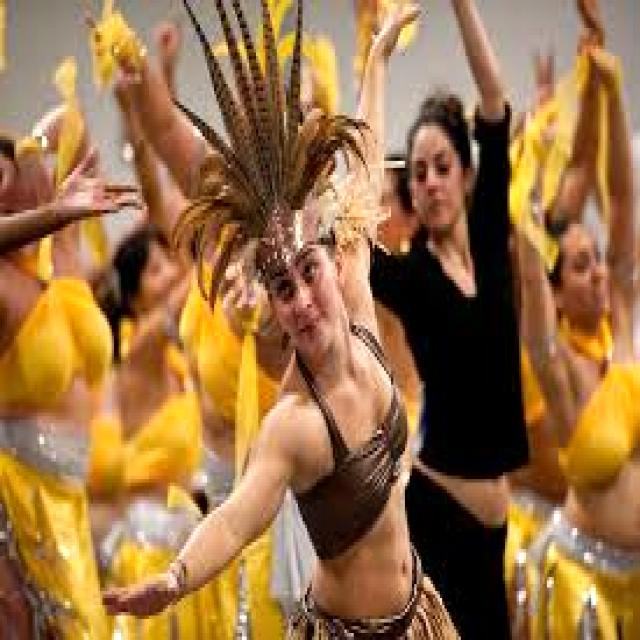Phasianus Colchicus: (284, 0, 303, 139)
